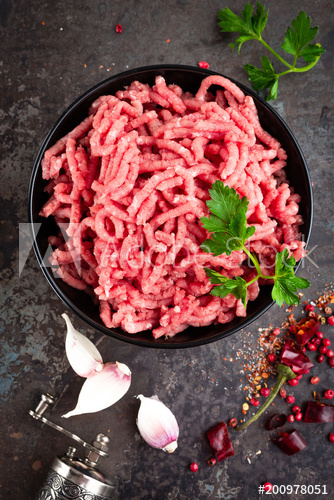ground_beef: (63, 85, 280, 312)
